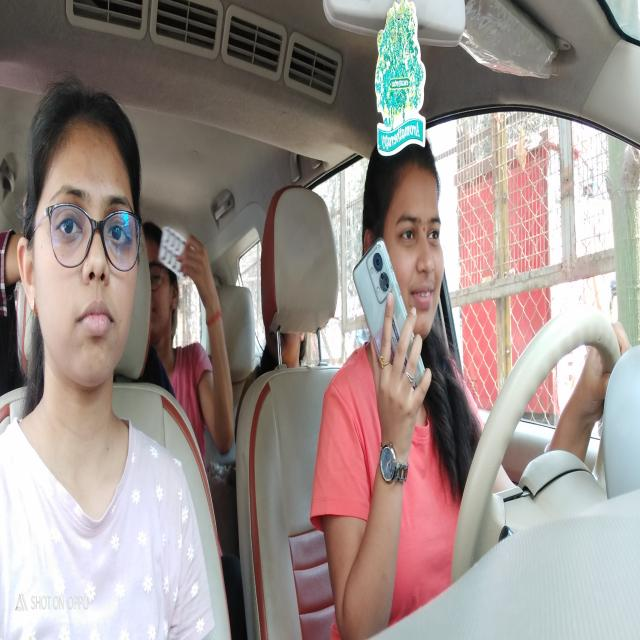mobile: (349, 255, 429, 397)
person: (23, 93, 139, 387), (367, 126, 445, 340), (148, 218, 180, 345), (270, 336, 308, 368)
